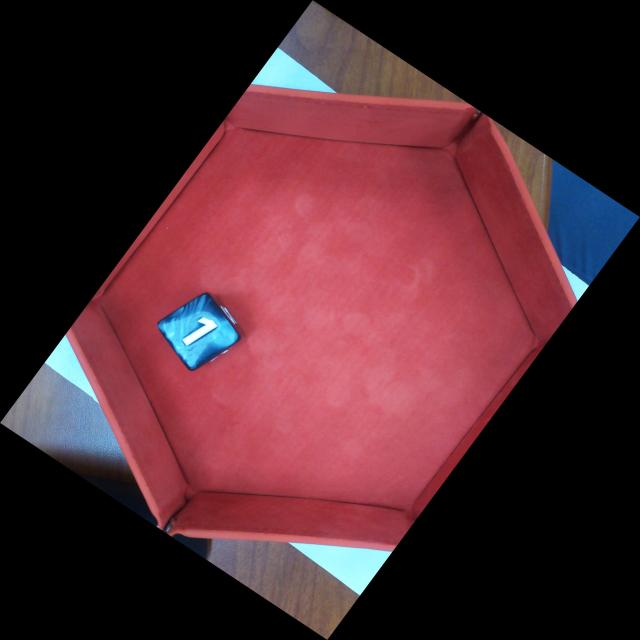dice: (164, 296, 239, 366)
